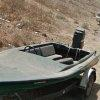Boat: (2, 33, 99, 99)
